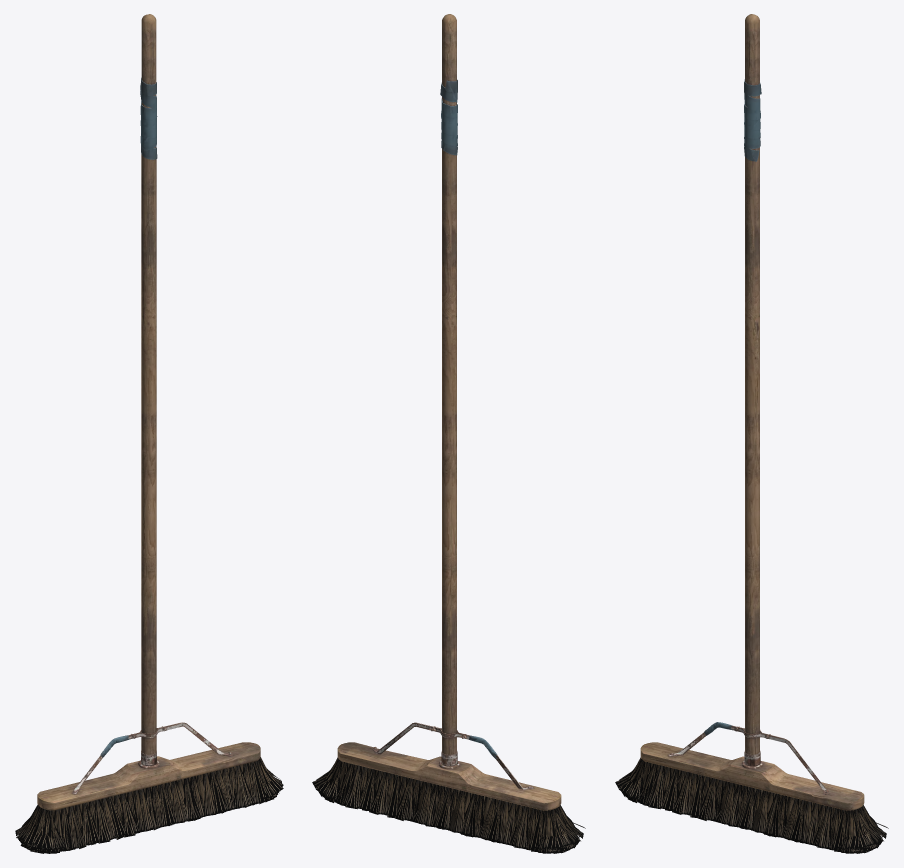
Rendered from wooden_broom.glb.
3 views of the same model, side by side, from view 1: azimuth 30°, elevation 25°; view 2: azimuth 150°, elevation 25°; view 3: azimuth 330°, elevation 25° (orthographic).
Visible parts, largest first — view 1: wooden_broom_handle, wooden_broom_bristles; view 2: wooden_broom_handle, wooden_broom_bristles; view 3: wooden_broom_handle, wooden_broom_bristles.
Part boxes in pixels (x1,y1,x2,y2): wooden_broom_handle: (37, 14, 260, 810); wooden_broom_bristles: (15, 757, 283, 853); wooden_broom_handle: (337, 14, 561, 810); wooden_broom_bristles: (312, 757, 585, 853); wooden_broom_handle: (640, 14, 864, 810); wooden_broom_bristles: (615, 757, 888, 853).
Size of the model in its own units: 0.4902 by 1.45 by 0.1125.
2 materials, 2 textured.
